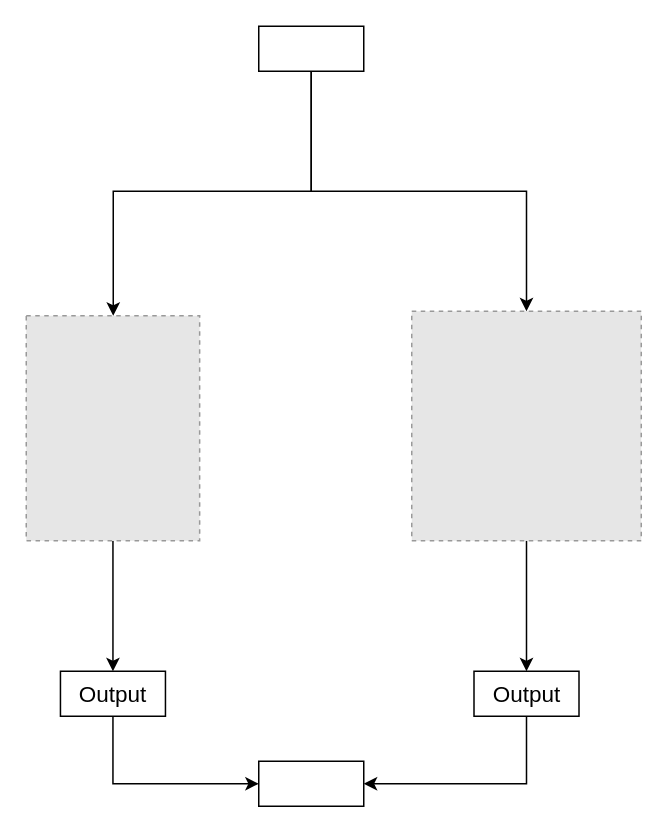
The diagram is 668 pixels wide and 833 high, and some of its shapes have lost their labels. Grey dashed boxes stand in for pictures. The shapes that lost their labels are listed below. From the top down, each one's centre as x and y in pixels, then its label:
At point (310, 48): "Input".
At point (310, 783): "Compare".
